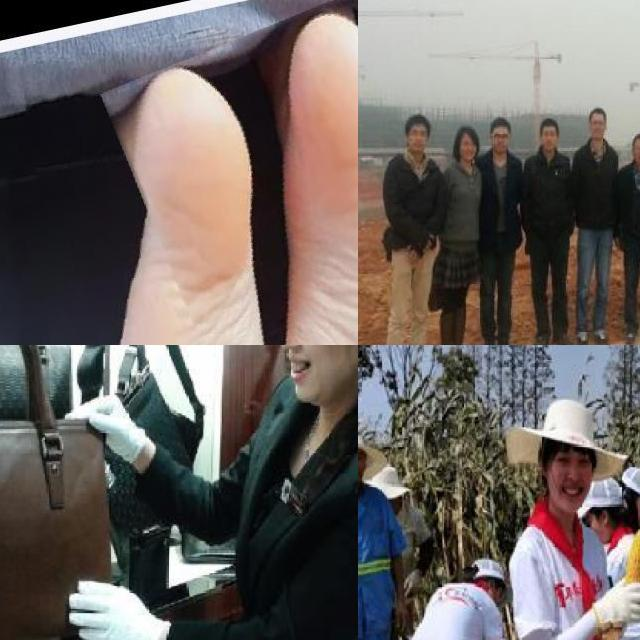Barefoots: (107, 59, 283, 345), (280, 5, 358, 345)
face_nomask: (260, 345, 351, 393), (546, 448, 588, 514), (408, 128, 428, 152), (540, 127, 558, 149), (492, 131, 508, 152), (460, 140, 477, 158), (592, 118, 606, 139), (633, 142, 640, 162)
hand_glove: (62, 389, 148, 469), (66, 570, 160, 640), (601, 575, 640, 629)
hand_noglove: (393, 598, 406, 631)
head_nohelmet: (526, 398, 616, 457), (404, 113, 432, 130), (358, 427, 370, 459), (490, 116, 511, 133), (456, 125, 478, 141), (588, 106, 606, 119), (540, 118, 557, 130), (632, 130, 640, 146)
person: (504, 398, 631, 640), (380, 112, 444, 345), (428, 119, 487, 345), (521, 118, 576, 345), (570, 106, 622, 345), (475, 115, 529, 345), (358, 422, 405, 640), (408, 561, 505, 640), (614, 126, 640, 345)
shoes: (452, 310, 473, 345), (437, 312, 458, 345), (593, 324, 617, 345), (550, 328, 574, 345), (621, 325, 640, 345), (572, 328, 594, 345), (528, 329, 549, 345), (495, 338, 516, 345), (481, 337, 496, 345)
